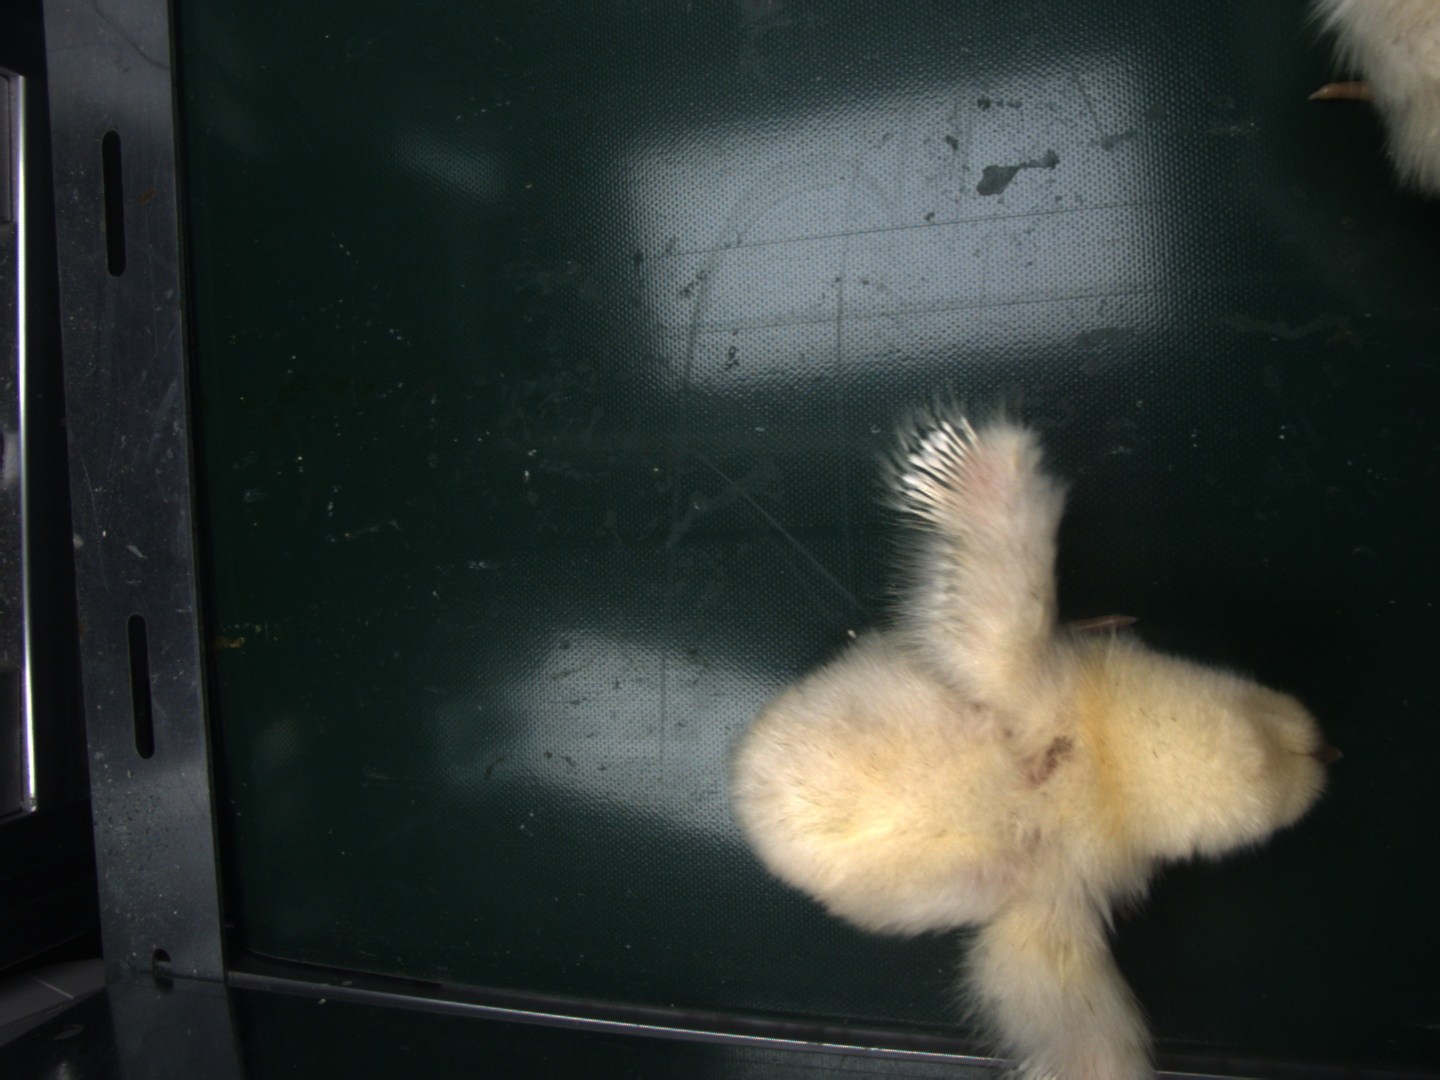male: (903, 420, 986, 535)
